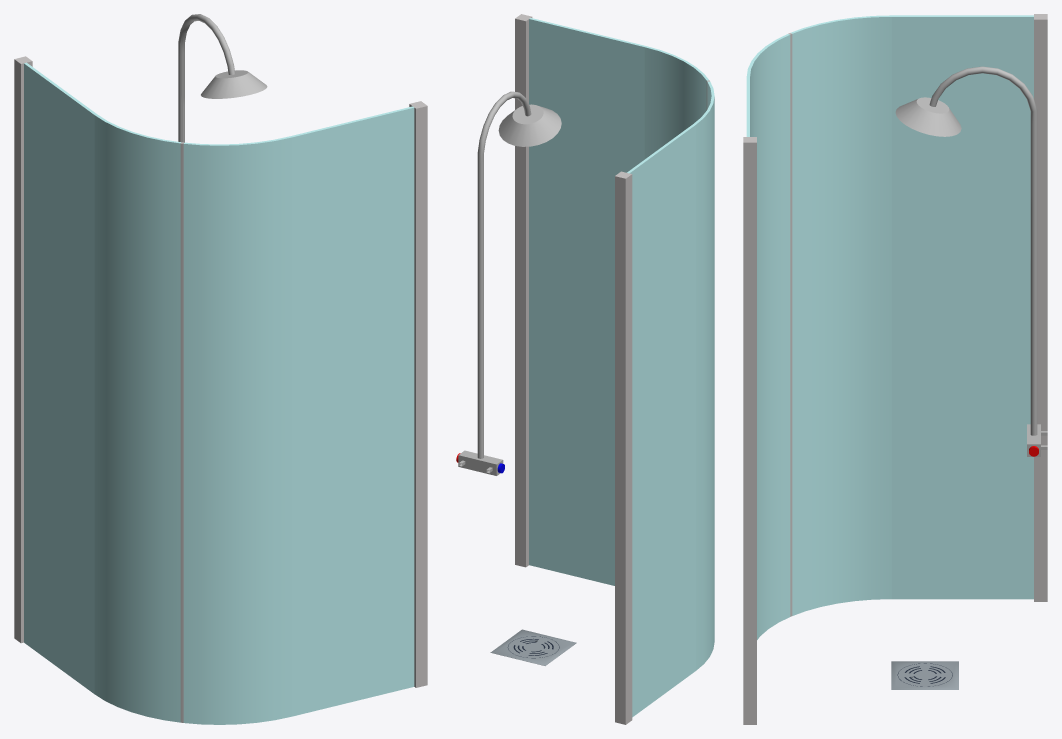
File: shower_cabin.obj
3 renders of one model, left to right at view 1: azimuth 30°, elevation 25°; view 2: azimuth 150°, elevation 25°; view 3: azimuth 270°, elevation 25°, orthographic. The views are drawn at different scales.
Visible parts, largest first — view 1: 3_3_3, 5_5_5, 1_1_1, 2_2_2, 4_4_4, 8_8_18, 9_9_19; view 2: 3_3_3, 5_5_5, 2_2_2, 1_1_1, 8_8_18, 9_9_19, 1_1_6, 2_2_7, 1_1_11; view 3: 5_5_5, 3_3_3, 1_1_1, 2_2_2, 8_8_18, 9_9_19, 4_4_4, 1_1_6, 2_2_7.
Boxes of the visible parts, x1,y1,x2,y2 form: 3_3_3: [183, 106, 414, 724]; 5_5_5: [24, 62, 181, 722]; 1_1_1: [409, 101, 427, 687]; 2_2_2: [14, 56, 32, 643]; 4_4_4: [180, 142, 183, 722]; 8_8_18: [178, 14, 235, 142]; 9_9_19: [201, 70, 267, 98]; 3_3_3: [529, 18, 708, 585]; 5_5_5: [627, 81, 714, 717]; 2_2_2: [615, 171, 632, 724]; 1_1_1: [515, 14, 532, 567]; 8_8_18: [477, 91, 531, 458]; 9_9_19: [498, 104, 561, 146]; 1_1_6: [490, 629, 576, 665]; 2_2_7: [508, 636, 559, 657]; 1_1_11: [458, 450, 503, 475]; 5_5_5: [790, 15, 1033, 615]; 3_3_3: [746, 34, 790, 639]; 1_1_1: [743, 137, 756, 724]; 2_2_2: [1034, 14, 1047, 601]; 8_8_18: [929, 66, 1037, 435]; 9_9_19: [895, 97, 961, 136]; 4_4_4: [788, 33, 792, 616]; 1_1_6: [891, 661, 958, 689]; 2_2_7: [898, 663, 952, 686].
Size of the model in its own units: 90 by 199 by 90.
